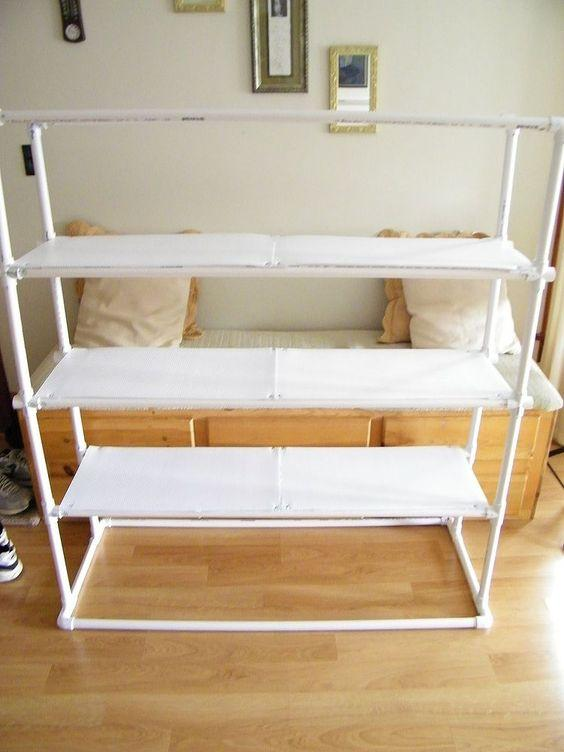PVC: (11, 103, 561, 138), (38, 496, 505, 536), (18, 388, 528, 423), (48, 601, 491, 641), (8, 256, 544, 288), (28, 141, 65, 238), (495, 141, 521, 241)
